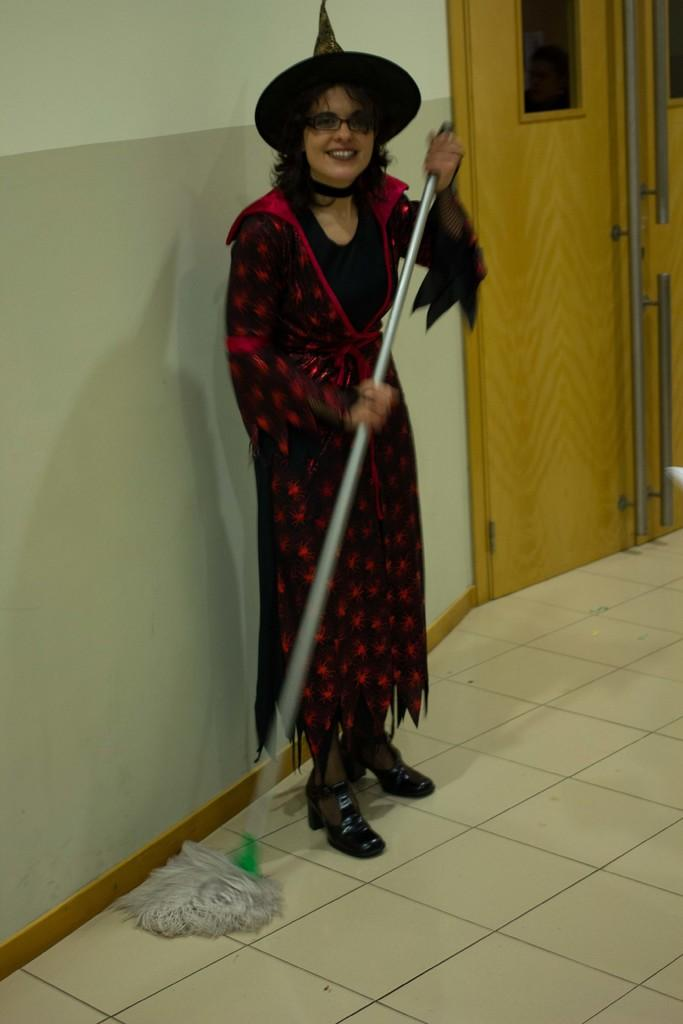Hat: (252, 0, 426, 154)
